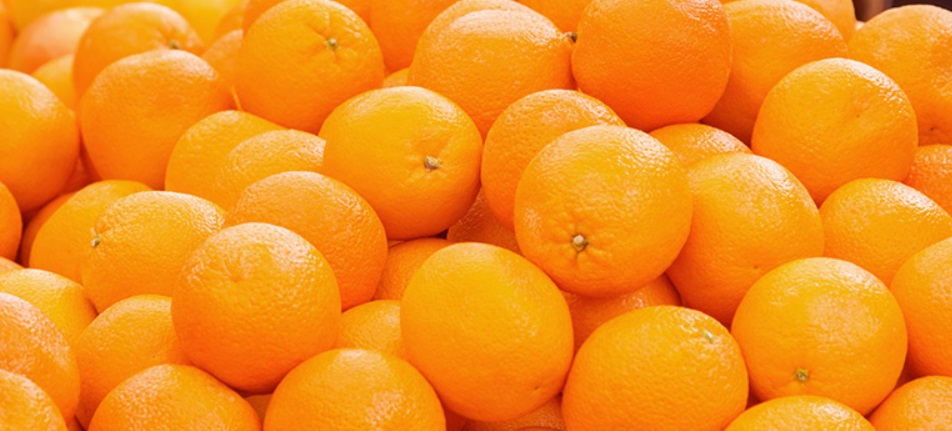Orange: (30, 10, 938, 423)
